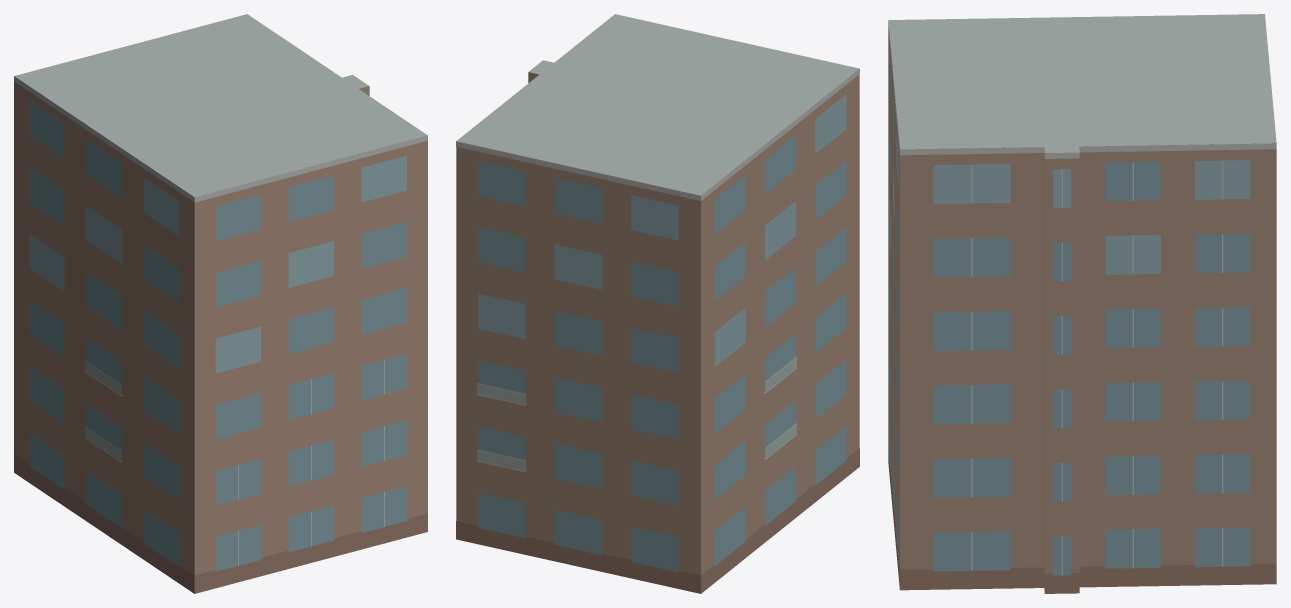
The model's file is survey-upis-33022527.glb.
3 views of the same model, side by side, from view 1: azimuth 30°, elevation 25°; view 2: azimuth 150°, elevation 25°; view 3: azimuth 270°, elevation 25° (orthographic). The views are drawn at different scales.
Parts seen in each view (by area): view 1: survey-upis-33022527.tmp; view 2: survey-upis-33022527.tmp; view 3: survey-upis-33022527.tmp.
Boxes of the visible parts, x1,y1,x2,y2 form: survey-upis-33022527.tmp: (14,14,427,593); survey-upis-33022527.tmp: (456,14,859,593); survey-upis-33022527.tmp: (888,14,1276,593).
Size of the model in its own units: 12.39 by 18.3 by 14.62.
